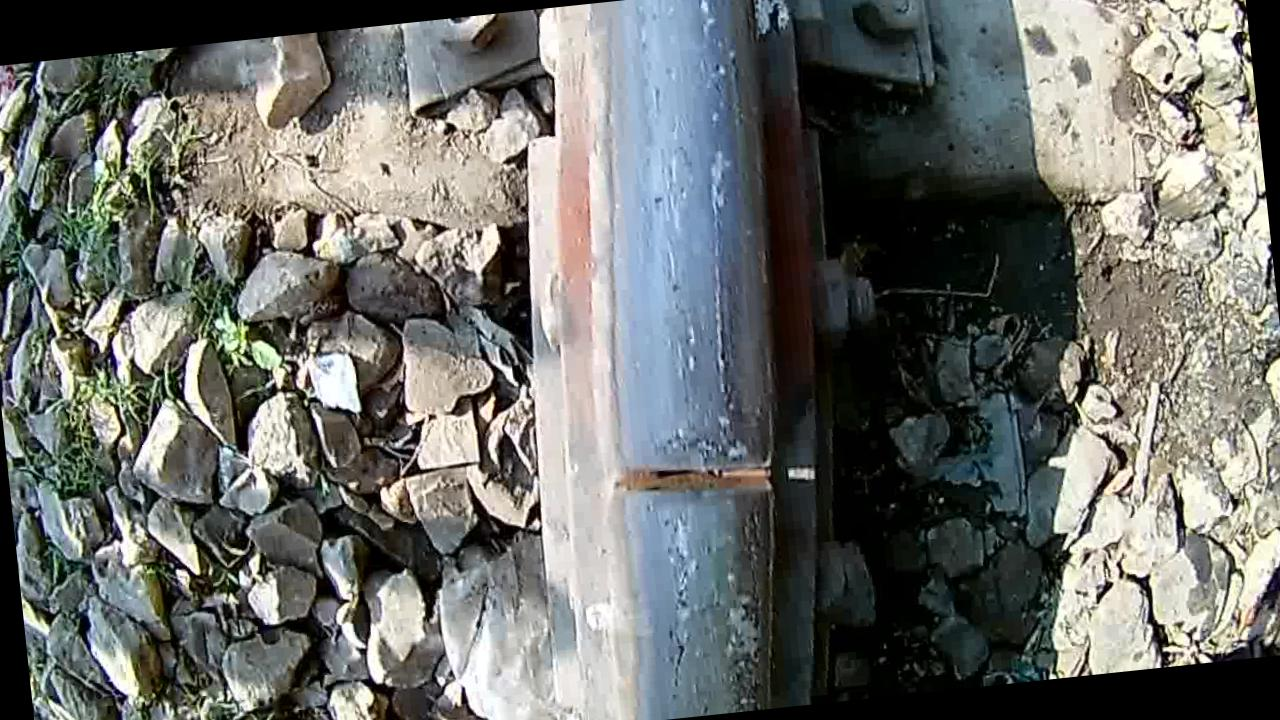clip_missing: (582, 0, 808, 449)
